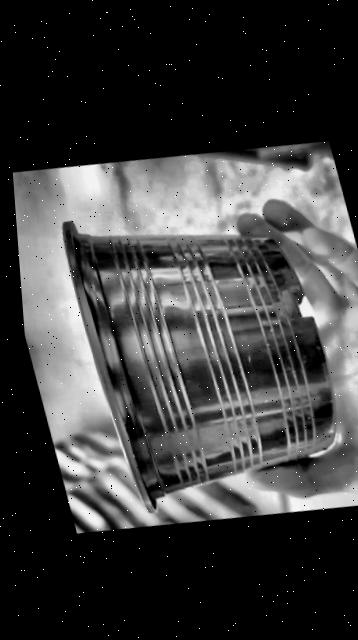pot: (63, 222, 334, 511)
